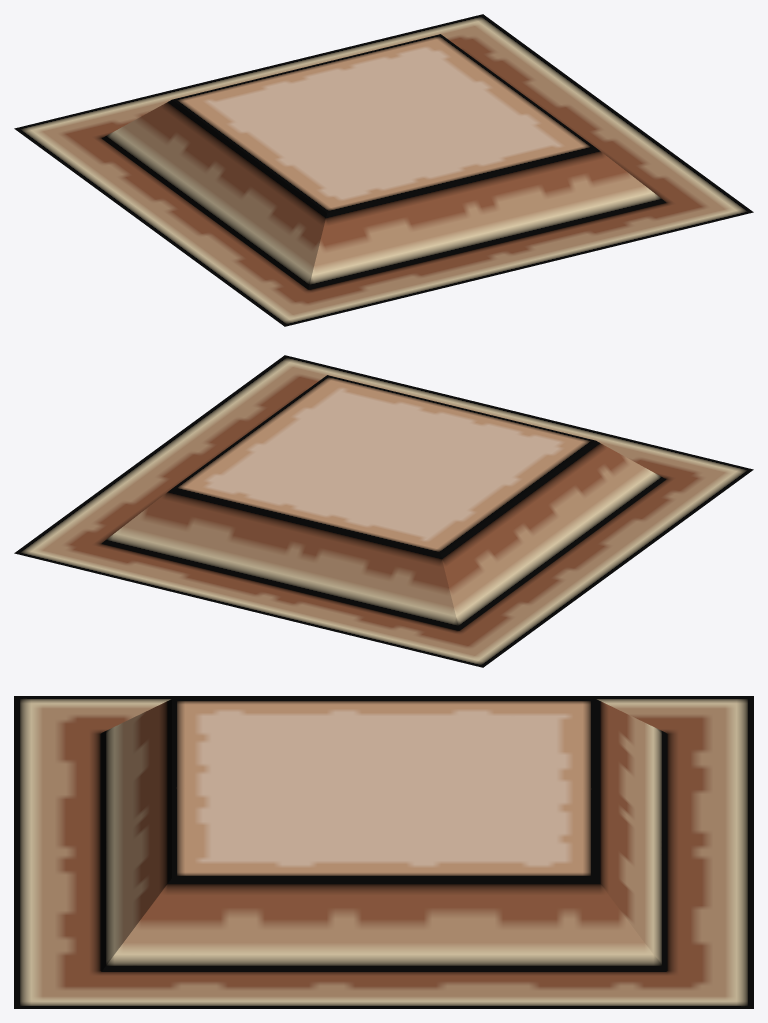
File: deco_button_released.FBX
The picture shows the model from 3 angles, top to bottom: view 1: azimuth 30°, elevation 25°; view 2: azimuth 150°, elevation 25°; view 3: azimuth 270°, elevation 25°; orthographic projection. The views are drawn at different scales.
Parts seen in each view (by area): view 1: deco_button_released; view 2: deco_button_released; view 3: deco_button_released.
Boxes of the visible parts, x1,y1,x2,y2 form: deco_button_released: (14,14,753,326); deco_button_released: (14,355,753,667); deco_button_released: (14,696,753,1008).
Size of the model in its own units: 2 by 0.1909 by 2.
1 material, 1 textured.
